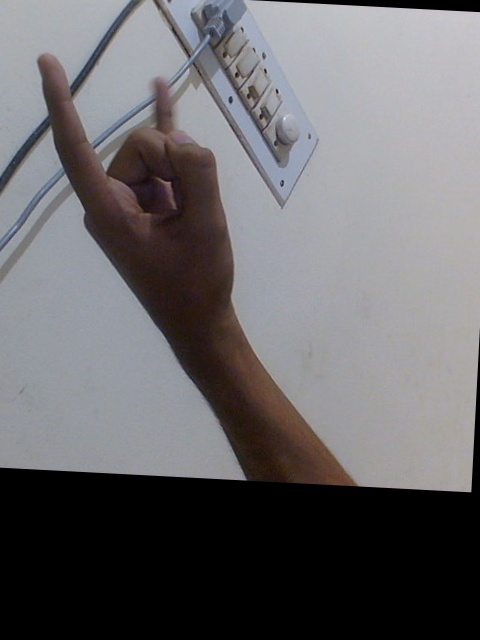hand: (34, 49, 251, 328)
